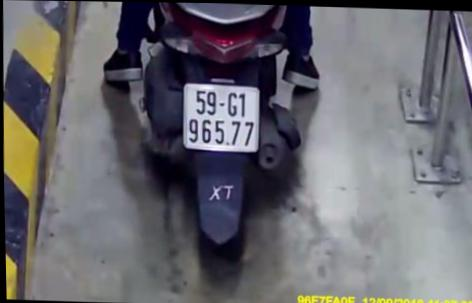LP: (181, 81, 259, 153)
